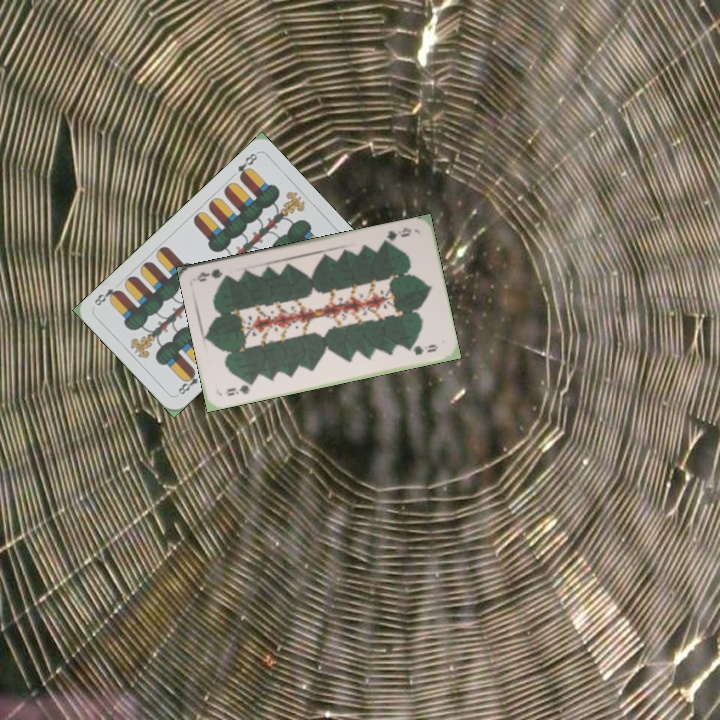E8: (173, 366, 206, 398), (233, 149, 260, 182)
G9: (379, 223, 414, 247), (223, 377, 257, 398)
